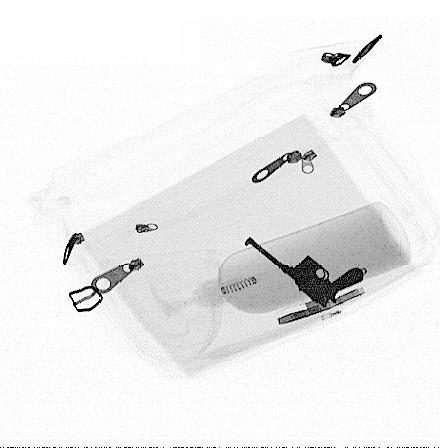Gun: (244, 236, 365, 309)
